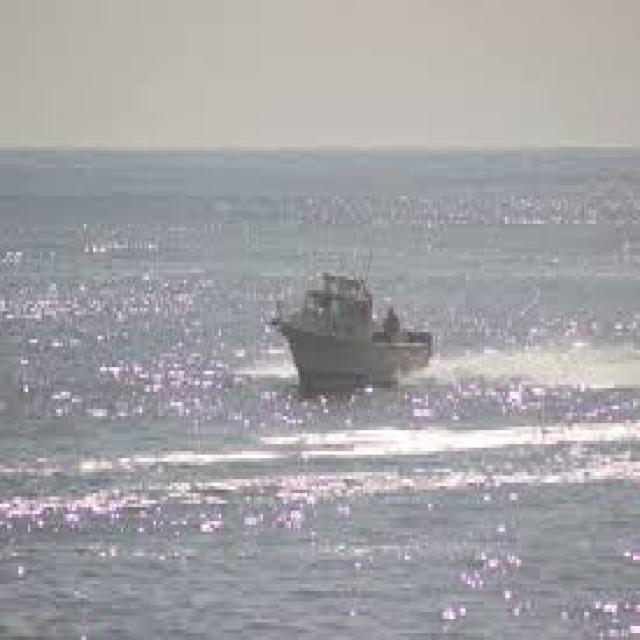houseboat: (261, 257, 430, 393)
